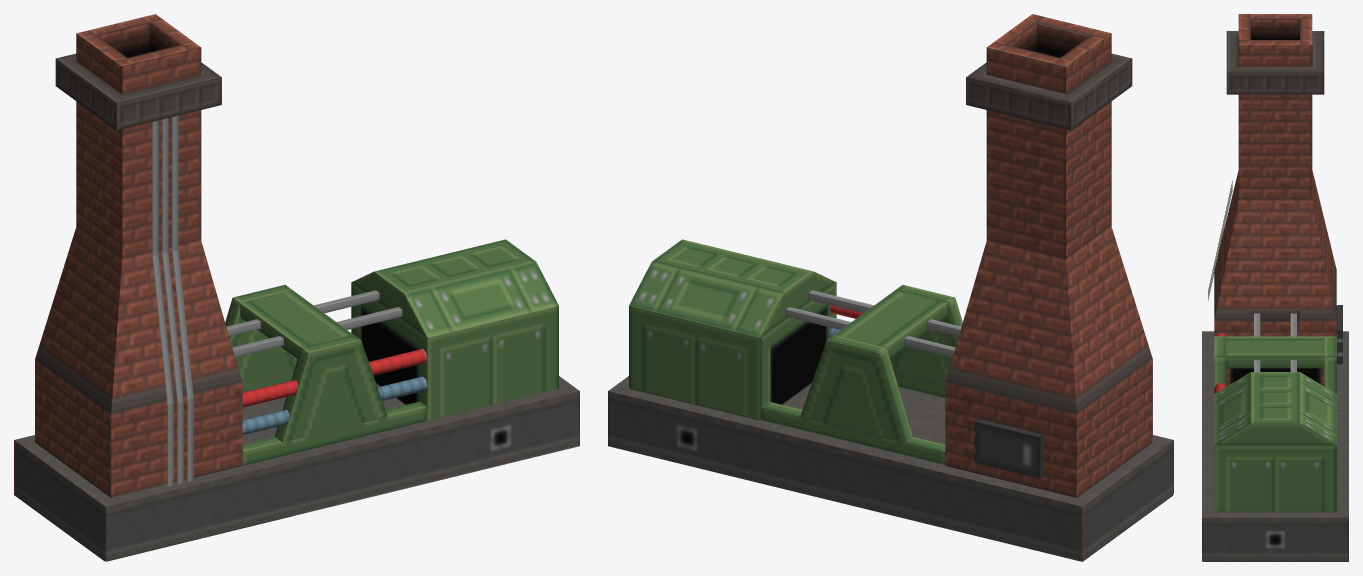
File: annihilator_annihilator.obj
3 views of the same model, side by side, from view 1: azimuth 30°, elevation 25°; view 2: azimuth 150°, elevation 25°; view 3: azimuth 270°, elevation 25° (orthographic). The views are drawn at different scales.
Visible parts, largest first — view 1: Annihilator; view 2: Annihilator; view 3: Annihilator.
Part boxes in pixels (<box>): Annihilator: <box>14,14,579,561</box>; Annihilator: <box>608,14,1173,561</box>; Annihilator: <box>1202,14,1348,561</box>.
Bounding box in the file's own units: 9 × 8.5 × 3.
